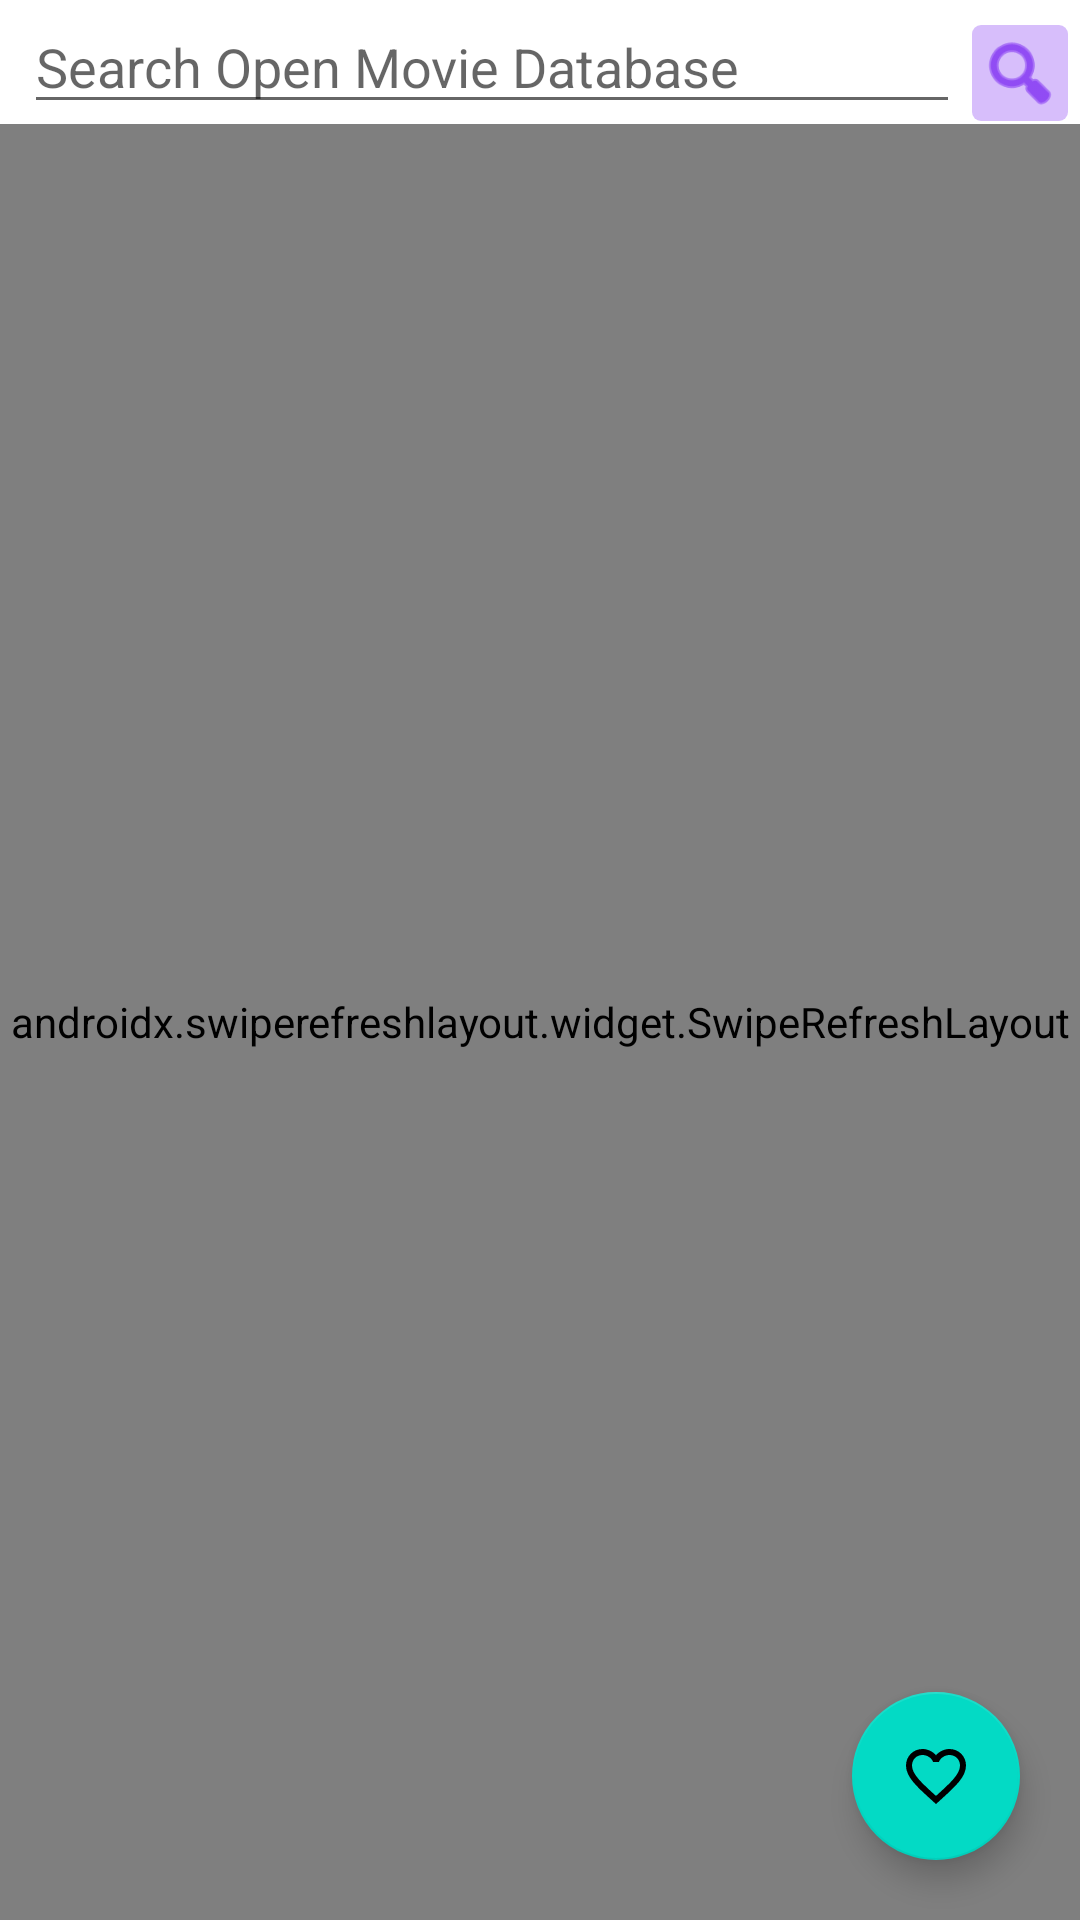

Icon bounding boxes for this 1080*1920 phone screenshot, format (x1, y1, x2, y2):
Favourites: (852, 1692, 1020, 1860)
